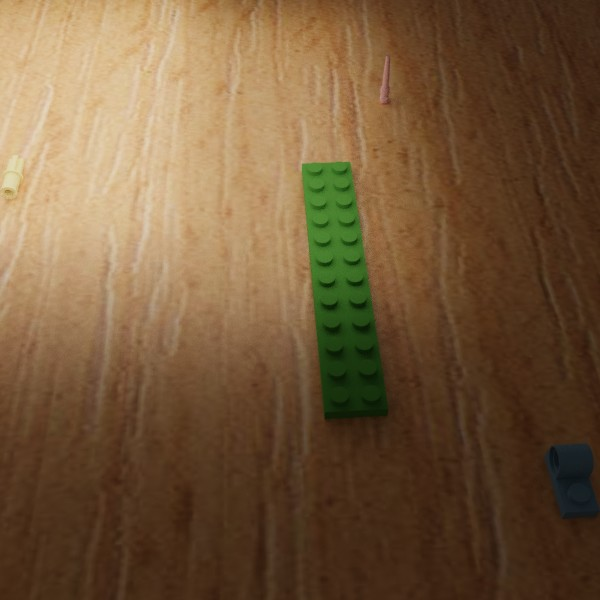lego: (301, 161, 388, 419), (544, 443, 600, 518), (0, 155, 24, 199), (379, 54, 390, 103)
